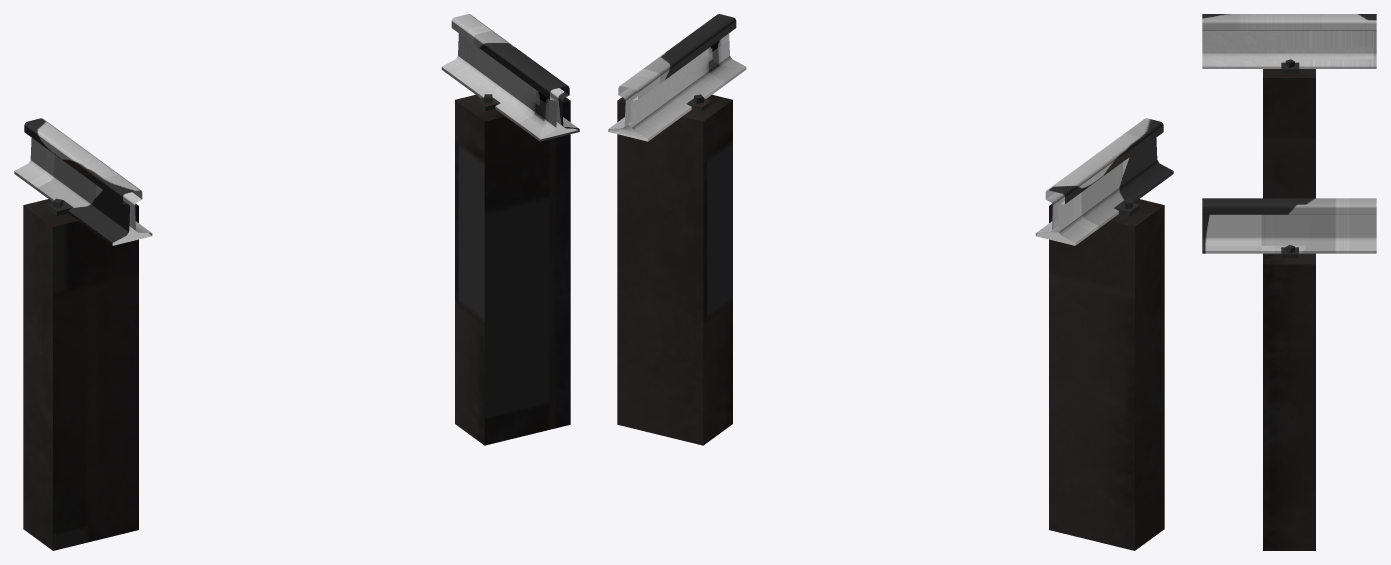
File: mtr_siding.obj
3 renders of one model, left to right at view 1: azimuth 30°, elevation 25°; view 2: azimuth 150°, elevation 25°; view 3: azimuth 270°, elevation 25°, orthographic. The views are drawn at different scales.
Visible parts, largest first — view 1: sleeper, rail; view 2: sleeper, rail; view 3: sleeper, rail, spikes.
Part boxes in pixels (x1=…): sleeper: x1=23, y1=94, x2=570, y2=550; rail: x1=14, y1=14, x2=579, y2=245; sleeper: x1=617, y1=94, x2=1164, y2=550; rail: x1=608, y1=14, x2=1173, y2=245; sleeper: x1=1263, y1=69, x2=1315, y2=550; rail: x1=1202, y1=14, x2=1376, y2=253; spikes: x1=1281, y1=59, x2=1299, y2=258.
Size of the model in its own units: 1.82 by 1.25 by 0.6.
4 materials, 4 textured.
